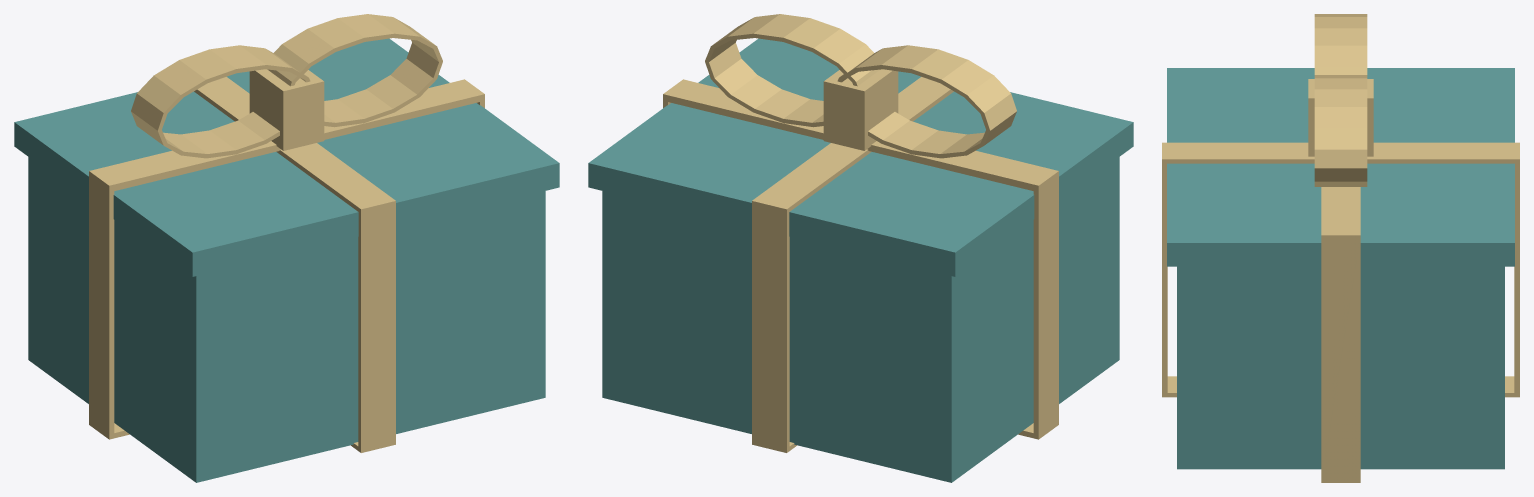
3 renders of one model, left to right at view 1: azimuth 30°, elevation 25°; view 2: azimuth 150°, elevation 25°; view 3: azimuth 270°, elevation 25°, orthographic. The views are drawn at different scales.
Visible parts, largest first — view 1: WholeSealedGiftBody, WholeOverhangingLid, WholeFrontBackWrappingRibbon, WholeLeftRightWrappingRibbon, WholeRightOpenBowLoop, WholeLeftOpenBowLoop, WholeCentralRibbonFold; view 2: WholeSealedGiftBody, WholeOverhangingLid, WholeFrontBackWrappingRibbon, WholeLeftRightWrappingRibbon, WholeRightOpenBowLoop, WholeLeftOpenBowLoop, WholeCentralRibbonFold; view 3: WholeSealedGiftBody, WholeOverhangingLid, WholeLeftRightWrappingRibbon, WholeFrontBackWrappingRibbon, WholeRightOpenBowLoop, WholeLeftOpenBowLoop, WholeCentralRibbonFold.
Part boxes in pixels (box(x1,y1,x2,y2)): WholeSealedGiftBody: box(28, 157, 545, 482); WholeOverhangingLid: box(14, 38, 559, 276); WholeFrontBackWrappingRibbon: box(194, 77, 395, 452); WholeLeftRightWrappingRibbon: box(89, 79, 484, 439); WholeRightOpenBowLoop: box(268, 14, 442, 127); WholeLeftOpenBowLoop: box(131, 45, 310, 158); WholeCentralRibbonFold: box(249, 69, 324, 150); WholeSealedGiftBody: box(602, 157, 1119, 482); WholeOverhangingLid: box(588, 38, 1133, 276); WholeFrontBackWrappingRibbon: box(752, 77, 953, 452); WholeLeftRightWrappingRibbon: box(663, 79, 1058, 439); WholeRightOpenBowLoop: box(705, 14, 879, 127); WholeLeftOpenBowLoop: box(837, 45, 1016, 158); WholeCentralRibbonFold: box(823, 69, 898, 150); WholeSealedGiftBody: box(1177, 266, 1504, 469); WholeOverhangingLid: box(1167, 68, 1514, 266); WholeLeftRightWrappingRibbon: box(1321, 187, 1360, 482); WholeFrontBackWrappingRibbon: box(1162, 142, 1519, 397); WholeRightOpenBowLoop: box(1314, 75, 1367, 186); WholeLeftOpenBowLoop: box(1314, 14, 1367, 74); WholeCentralRibbonFold: box(1308, 79, 1373, 156).
Bounding box in the file's own units: 0.129 × 0.1125 × 0.109.
